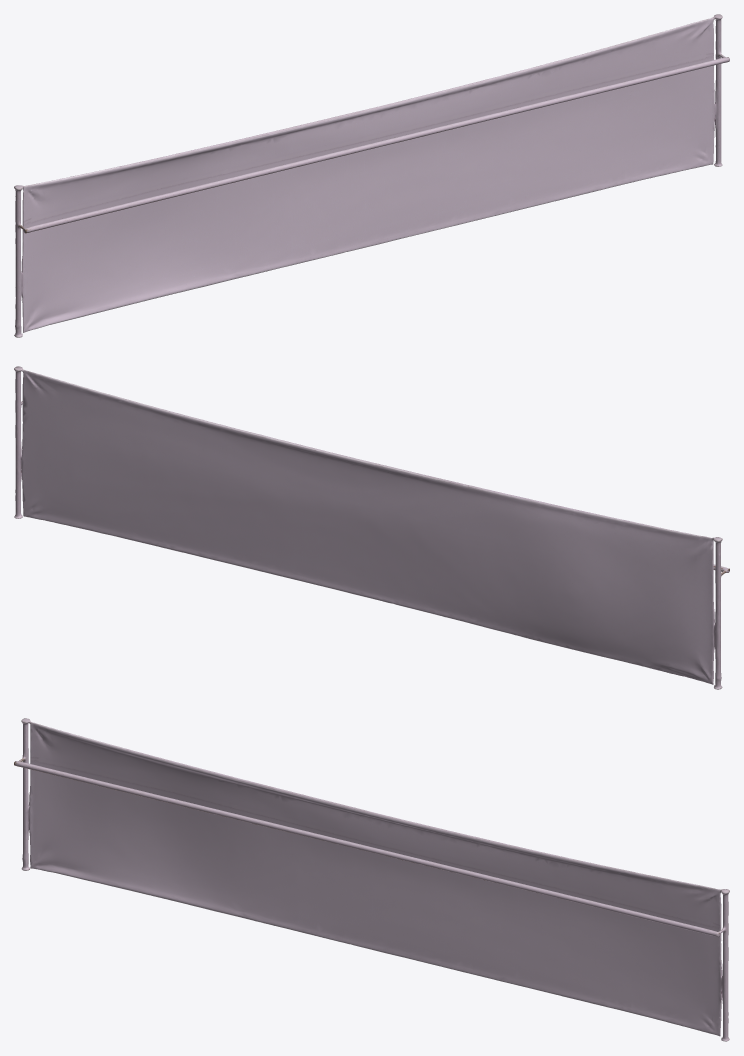
Rendered from banner.glb.
3 views of the same model, one above another, from view 1: azimuth 30°, elevation 25°; view 2: azimuth 150°, elevation 25°; view 3: azimuth 330°, elevation 25° (orthographic).
Size of the model in its own units: 1.9 by 0.3844 by 0.0641.
1 material, 1 textured.
